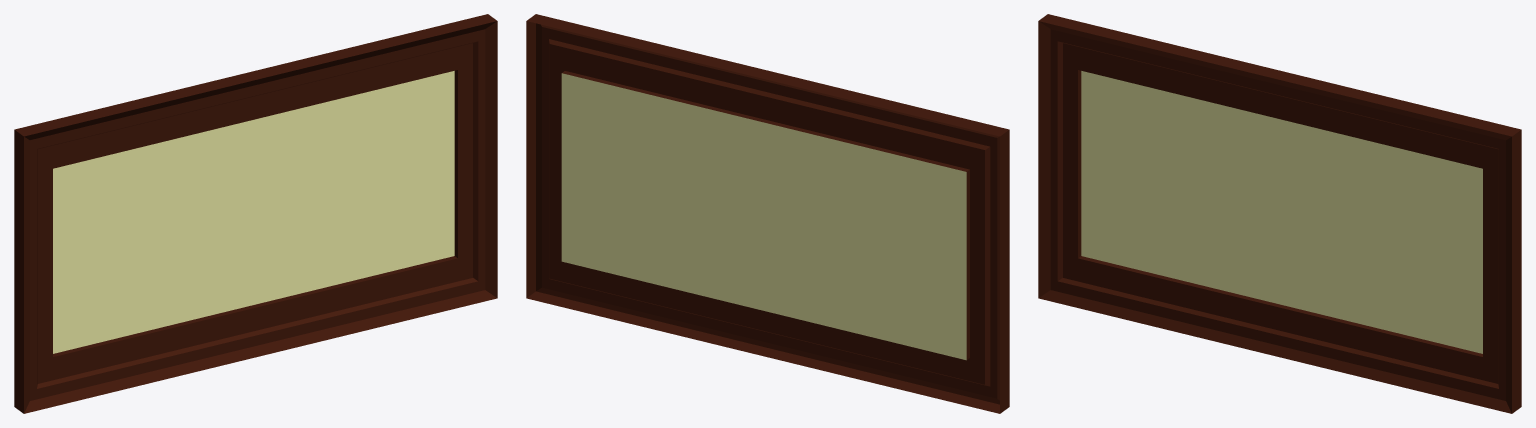
The model's file is portrait_horiz.fbx.
3 views of the same model, side by side, from view 1: azimuth 30°, elevation 25°; view 2: azimuth 150°, elevation 25°; view 3: azimuth 330°, elevation 25° (orthographic).
Visible parts, largest first — view 1: portrait_horiz; view 2: portrait_horiz; view 3: portrait_horiz.
Part boxes in pixels (x1,y1,x2,y2): portrait_horiz: (14,14,497,413); portrait_horiz: (526,14,1009,413); portrait_horiz: (1038,14,1521,413).
Size of the model in its own units: 357 by 200 by 12.51.
